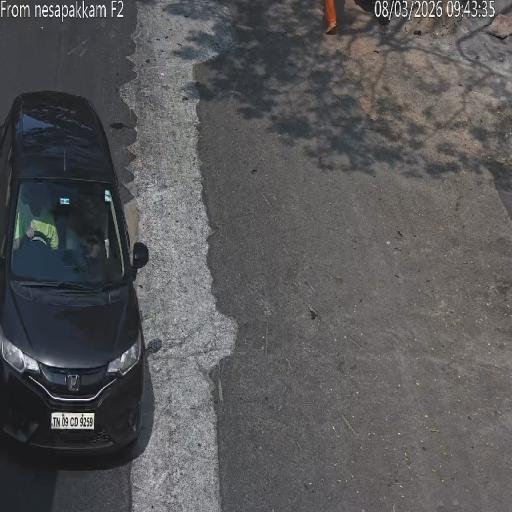person_with_seatbelt: (18, 186, 44, 248)
